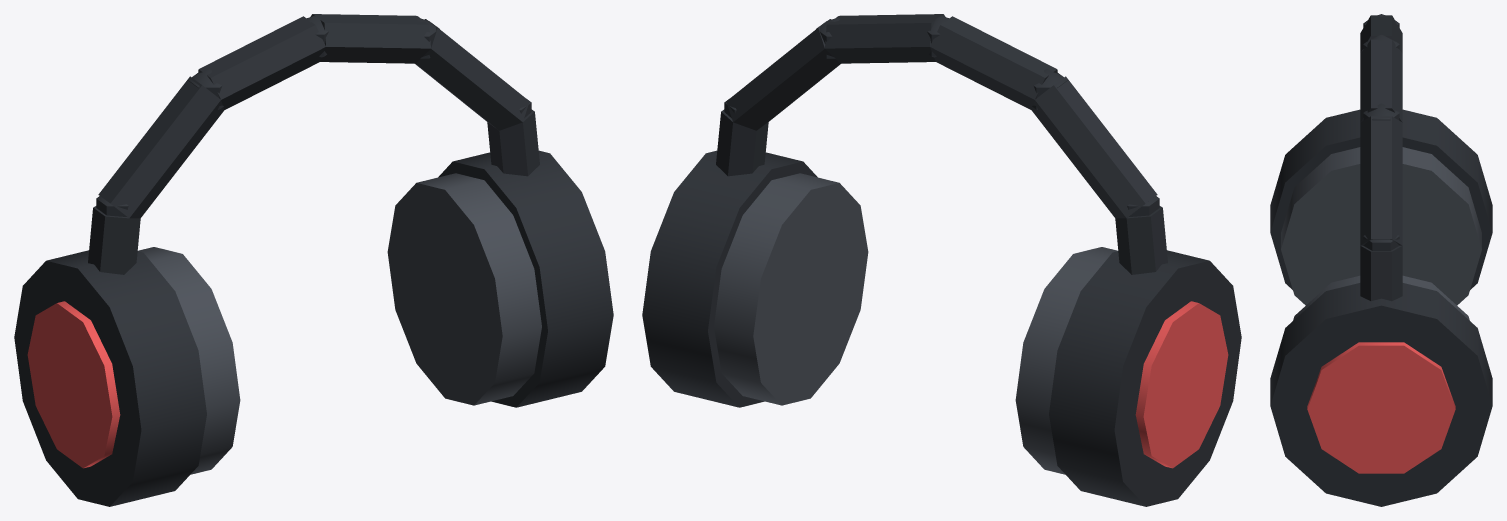
Rendered from headphones.glb.
The picture shows the model from 3 angles, left to right: view 1: azimuth 30°, elevation 25°; view 2: azimuth 150°, elevation 25°; view 3: azimuth 270°, elevation 25°; orthographic projection. The views are drawn at different scales.
Parts seen in each view (by area): view 1: headphones; view 2: headphones; view 3: headphones.
Part boxes in pixels (x1,y1,x2,y2): headphones: (14, 14, 613, 506); headphones: (642, 14, 1241, 506); headphones: (1270, 14, 1492, 506).
Size of the model in its own units: 0.186 by 0.155 by 0.084.
